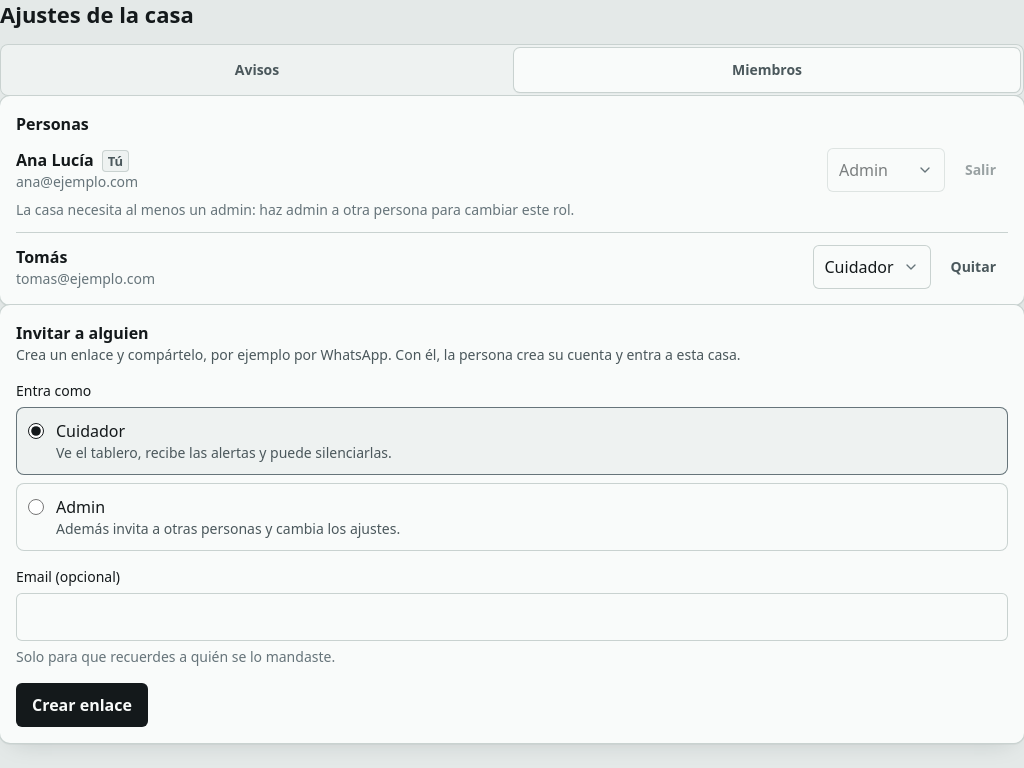
Test: Miembros › quitar a alguien pide confirmación
The width and height of the screenshot is (1024, 768).
Click the button "Quitar": (973, 267) [938, 245, 1008, 289]
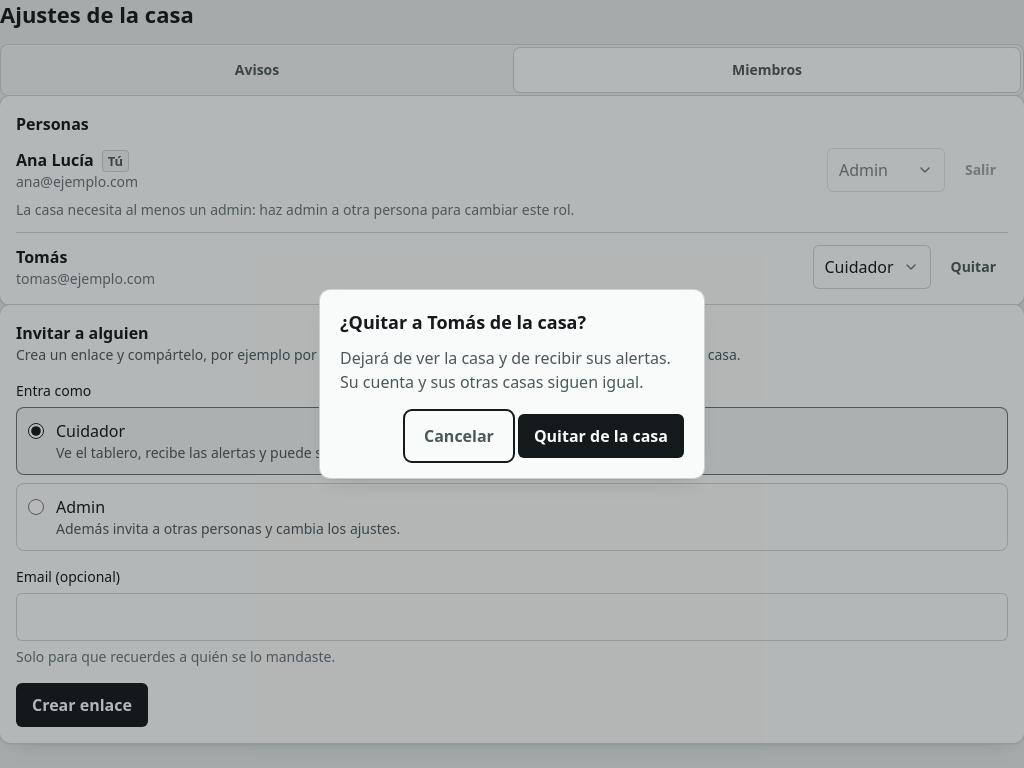
Click the button "Quitar de la casa": (601, 436) [518, 414, 684, 458]
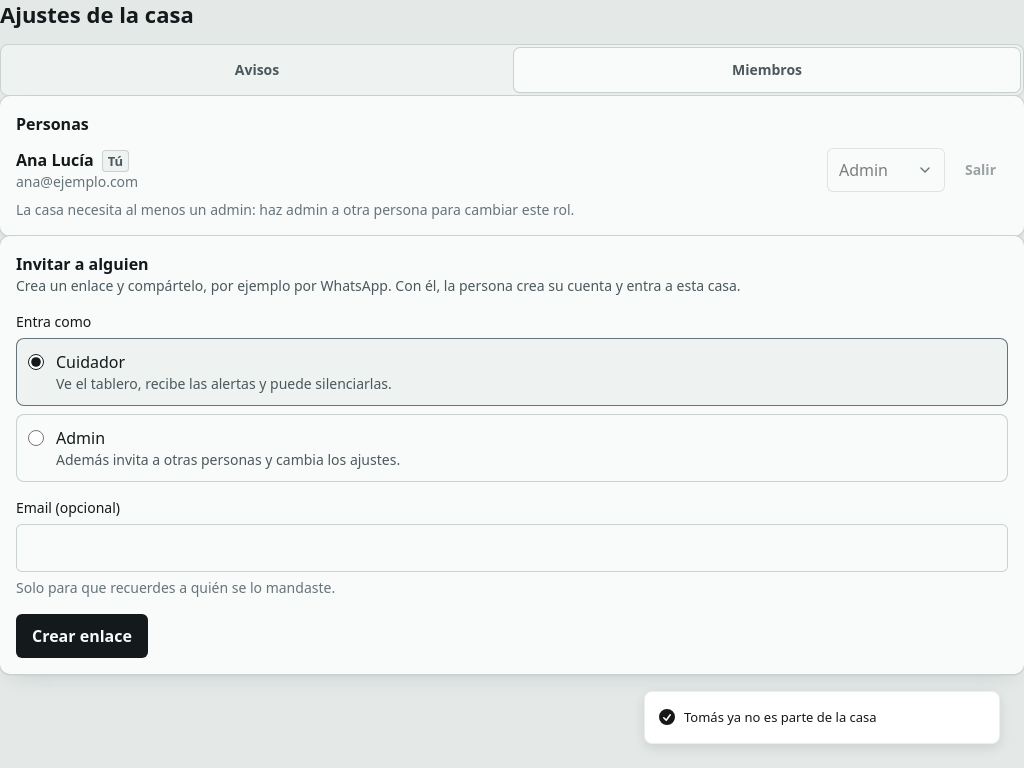
Expected: the text "Tomás ya no es parte de la casa" is shown, [684, 708, 877, 727]
